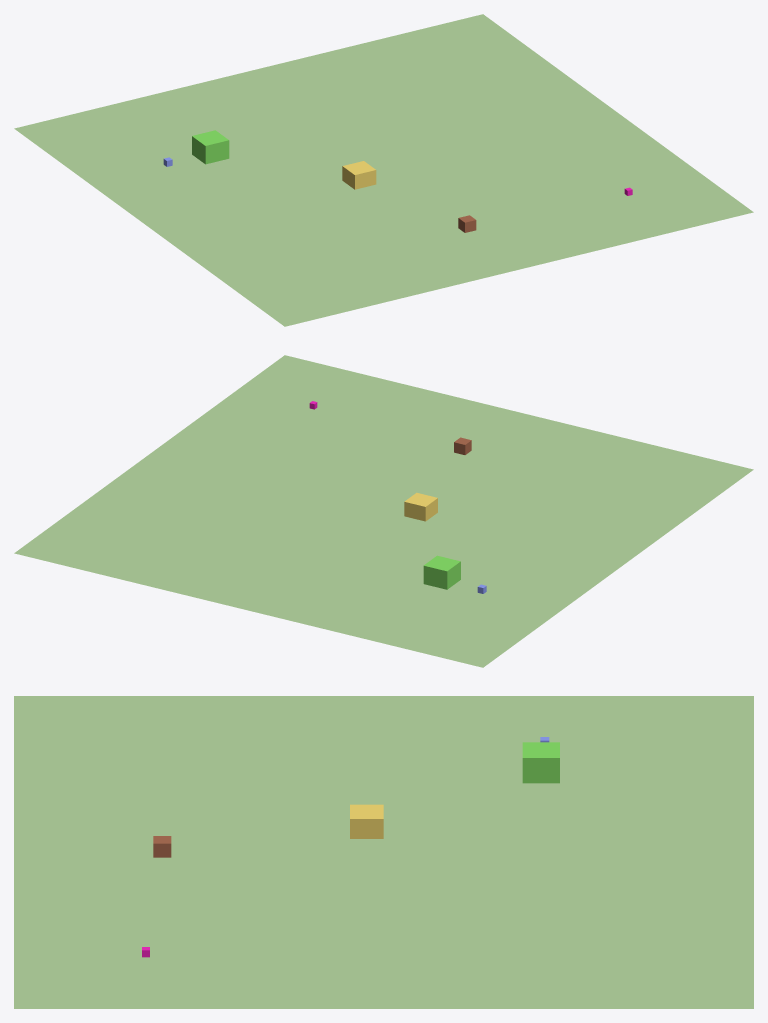
3 views of the same model, one above another, from view 1: azimuth 30°, elevation 25°; view 2: azimuth 150°, elevation 25°; view 3: azimuth 270°, elevation 25° (orthographic). The views are drawn at different scales.
Parts seen in each view (by area): view 1: Chunk_1_0; view 2: Chunk_1_0; view 3: Chunk_1_0.
Part boxes in pixels (<box>): Chunk_1_0: <box>14,14,753,326</box>; Chunk_1_0: <box>14,355,753,667</box>; Chunk_1_0: <box>14,696,753,1008</box>.
Size of the model in its own units: 1500 by 80.26 by 1500.
